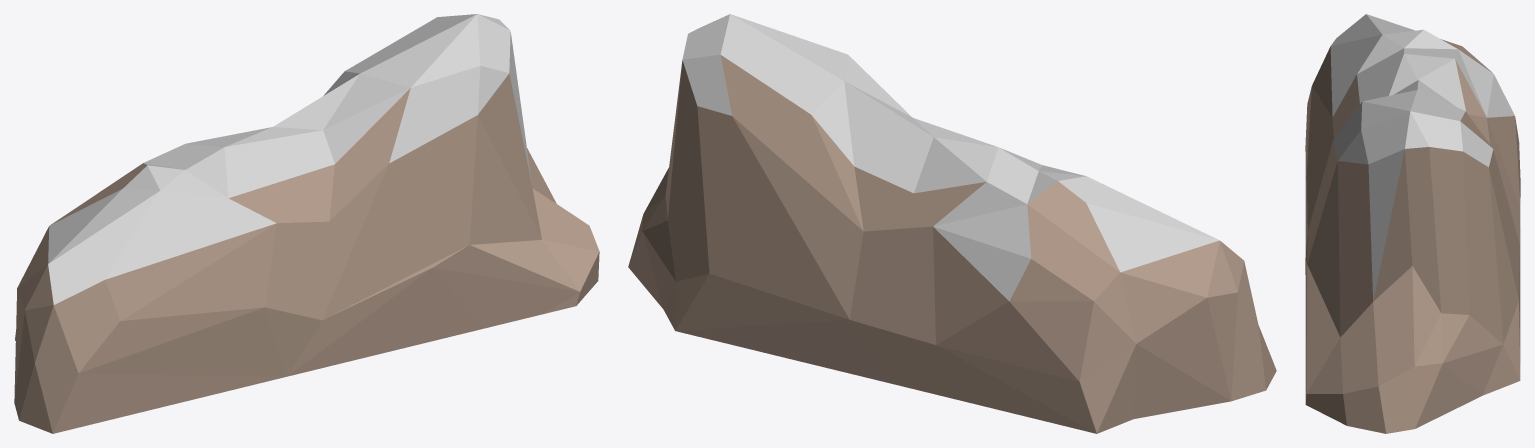
File: mountain1.fbx
3 renders of one model, left to right at view 1: azimuth 30°, elevation 25°; view 2: azimuth 150°, elevation 25°; view 3: azimuth 270°, elevation 25°, orthographic. The views are drawn at different scales.
Visible parts, largest first — view 1: Plane.005; view 2: Plane.005; view 3: Plane.005.
Boxes of the visible parts, x1,y1,x2,y2 form: Plane.005: [14, 14, 599, 433]; Plane.005: [628, 14, 1276, 433]; Plane.005: [1305, 14, 1520, 433].
Bounding box in the file's own units: 6492 × 2779 × 2005.
